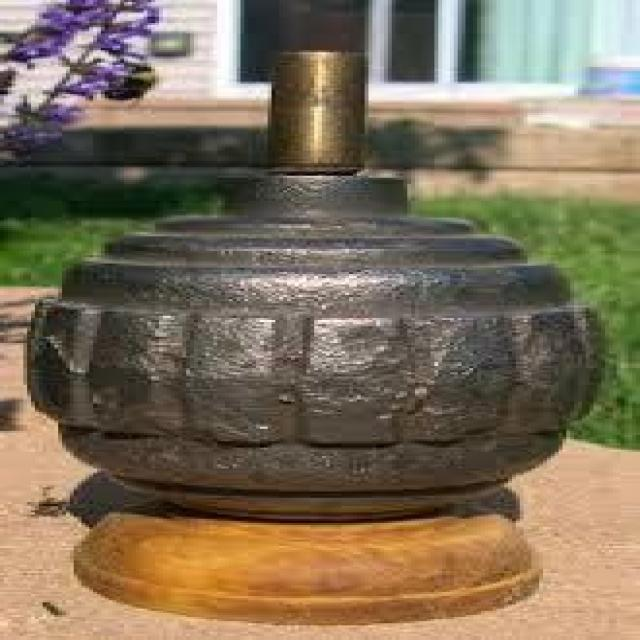grenade: (41, 43, 572, 511)
